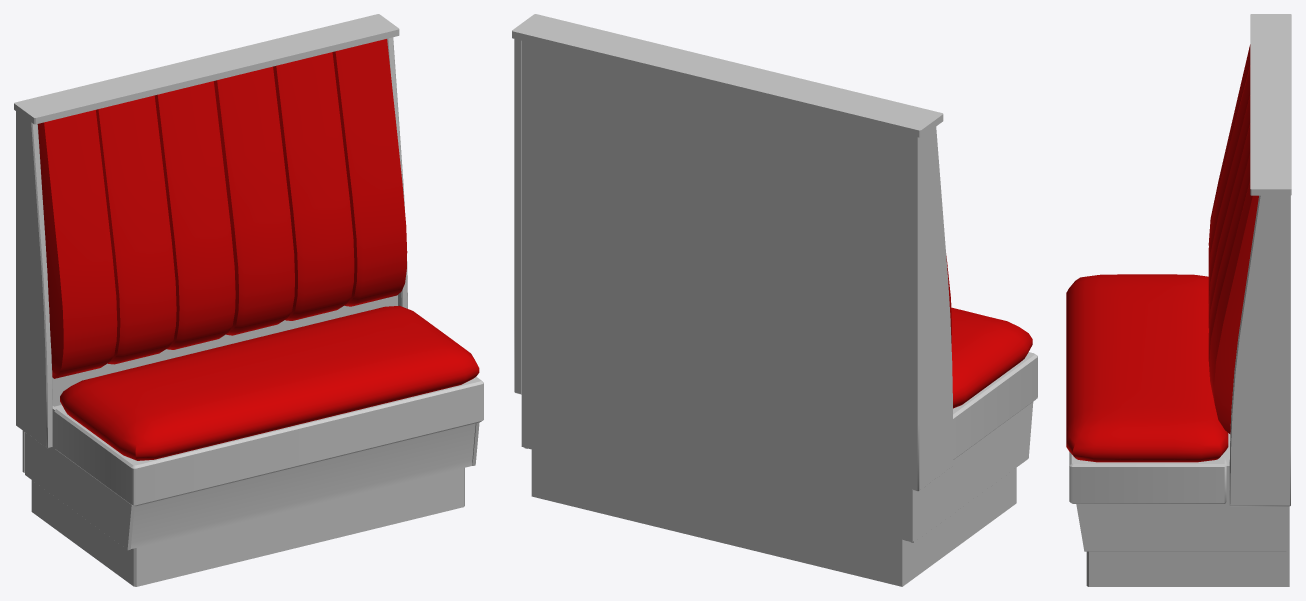
Rendered from Booths Chairs.fbx.
The picture shows the model from 3 angles, left to right: view 1: azimuth 30°, elevation 25°; view 2: azimuth 150°, elevation 25°; view 3: azimuth 270°, elevation 25°; orthographic projection. The views are drawn at different scales.
Parts seen in each view (by area): view 1: Booths_Chairs; view 2: Booths_Chairs; view 3: Booths_Chairs.
Boxes of the visible parts, bbox=[...] form: Booths_Chairs: bbox=[14, 14, 483, 586]; Booths_Chairs: bbox=[512, 14, 1037, 586]; Booths_Chairs: bbox=[1066, 14, 1291, 586].
Bounding box in the file's own units: 120 × 130 × 65.17.
